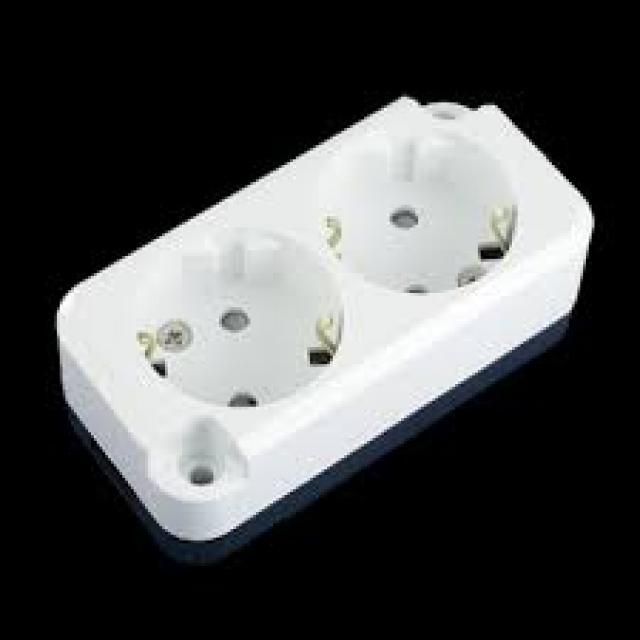typeb: (17, 66, 600, 554)
